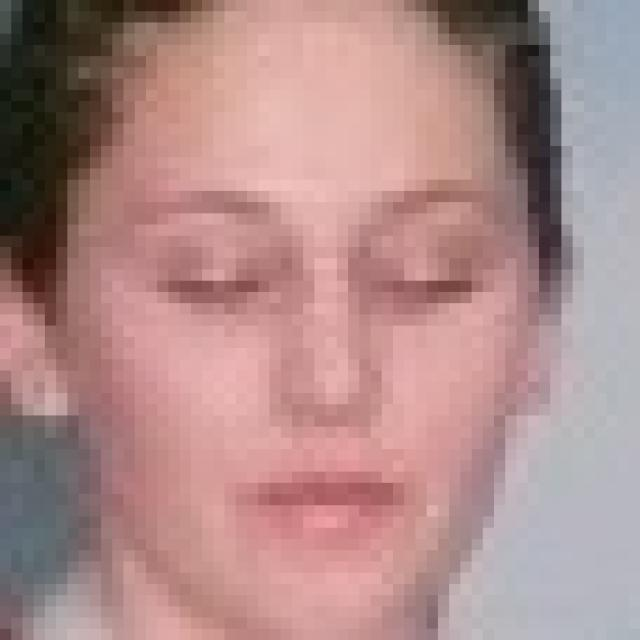Eyeclosed: (158, 255, 275, 319), (386, 256, 480, 313)
